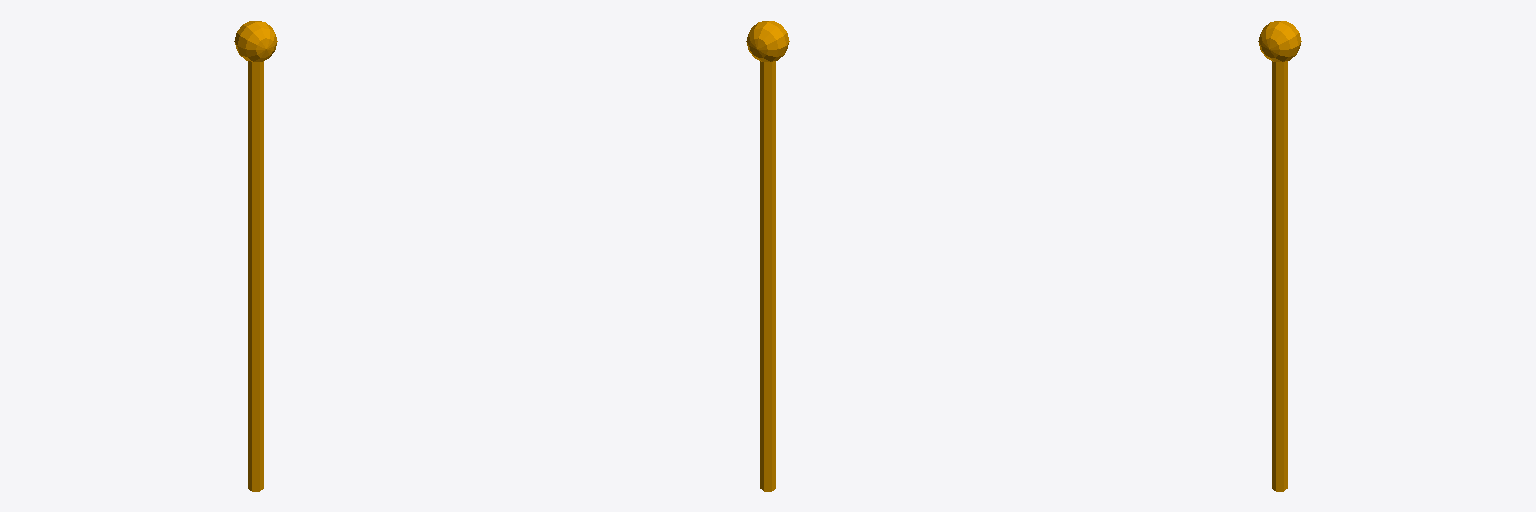
robot.urdf — stick:
<robot name="stick">
  <link name="stick">
    <inertial>
      <mass value="0.20" />
      <!-- center of mass (com) is defined w.r.t. link local coordinate system -->
      <origin xyz="0 0 0.06" /> 
      <inertia  ixx="1" ixy="0.0"  ixz="0.0"  iyy="1"  iyz="0.0"  izz="1" />
    </inertial>
    <visual>
    <friction>
        <ode>
             <mu>10.0</mu>
             <mu2>10.0</mu2>
        </ode>
    </friction>
      <!-- visual origin is defined w.r.t. link local coordinate system -->
      <origin xyz="0 0 0" rpy="1.57 0 0" />
      <geometry>
        <mesh filename="package://system_launch/models/mesh/new_stick.dae" scale="0.15 0.15 0.15" />
      </geometry>
    </visual>
    <collision>
      <!-- collision origin is defined w.r.t. link local coordinate system -->
      <origin xyz="0 0 0" rpy="1.57 0 0" />
      <geometry>
        <mesh filename="package://system_launch/models/mesh/new_stick.dae" scale="0.15 0.15 0.15" />
      </geometry>
    </collision>
  </link>
  <gazebo reference="stick">
    <material>Gazebo/Red</material>
    <turnGravityOff>true</turnGravityOff>
    <kp>100000000.0</kp>
    <kd>1.0</kd>
  </gazebo>
</robot>

--- Render facts (derived) ---
3 views of the same robot in one strip: view 1: azimuth 30°, elevation 25°; view 2: azimuth 150°, elevation 25°; view 3: azimuth 330°, elevation 25° (orthographic).
Model stick with 1 links and 0 joints (none), rooted at stick, posed every joint at zero.
Links seen in each view (by area): view 1: stick; view 2: stick; view 3: stick.
Link boxes in pixels (left/top/right/bottom): stick: left=234, top=21, right=277, bottom=491; stick: left=746, top=21, right=789, bottom=491; stick: left=1258, top=21, right=1301, bottom=491.
Size in the robot's own frame: 0.024 by 0.024 by 0.2859 metres.
1 mesh visuals loaded from 1 distinct referenced files (1 Collada DAE).
